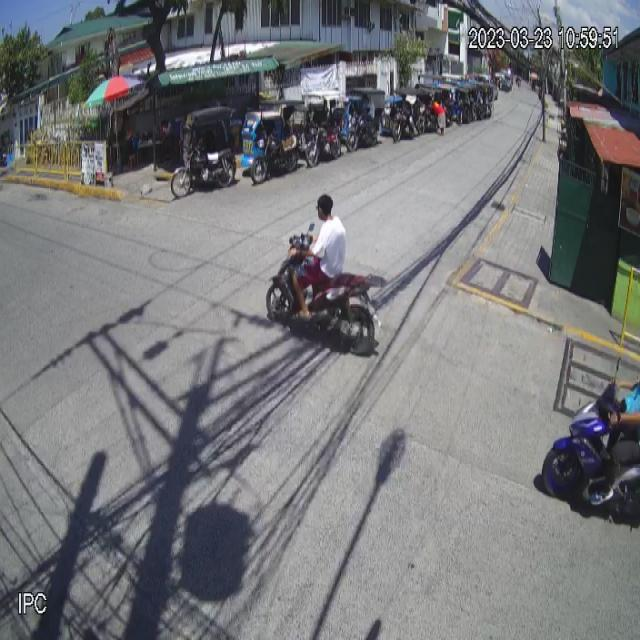Motorcycle: (266, 221, 387, 356)
